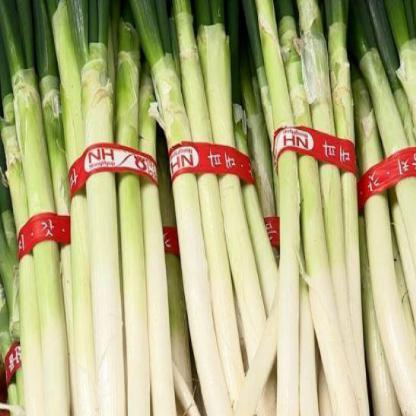green onion: (140, 0, 272, 415), (54, 8, 172, 415), (248, 12, 362, 415), (3, 12, 94, 415), (348, 10, 416, 415)
